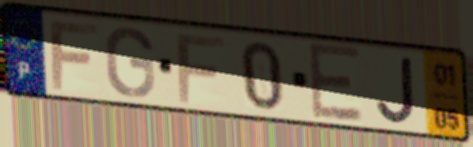0: (237, 40, 286, 113)
E: (305, 39, 366, 125)
F: (47, 19, 101, 93), (174, 32, 228, 106)
G: (103, 24, 158, 100)
J: (374, 54, 418, 127)
